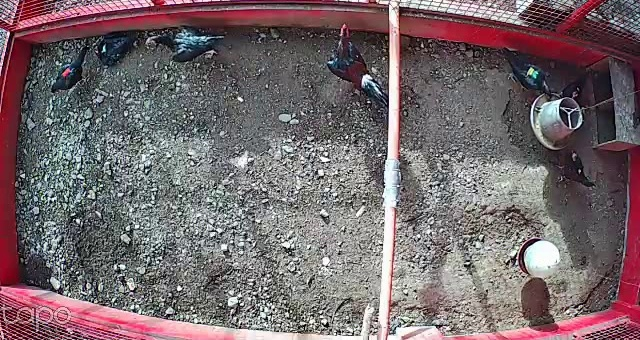Chicken: (143, 23, 227, 69), (495, 38, 554, 99), (48, 37, 92, 96), (554, 148, 601, 196), (93, 32, 152, 68), (560, 71, 597, 105)
Rooster: (316, 18, 392, 106)
Saddle_Color_Red: (63, 67, 73, 76)
Saddle_Color_YellowGreen: (527, 67, 542, 80)
